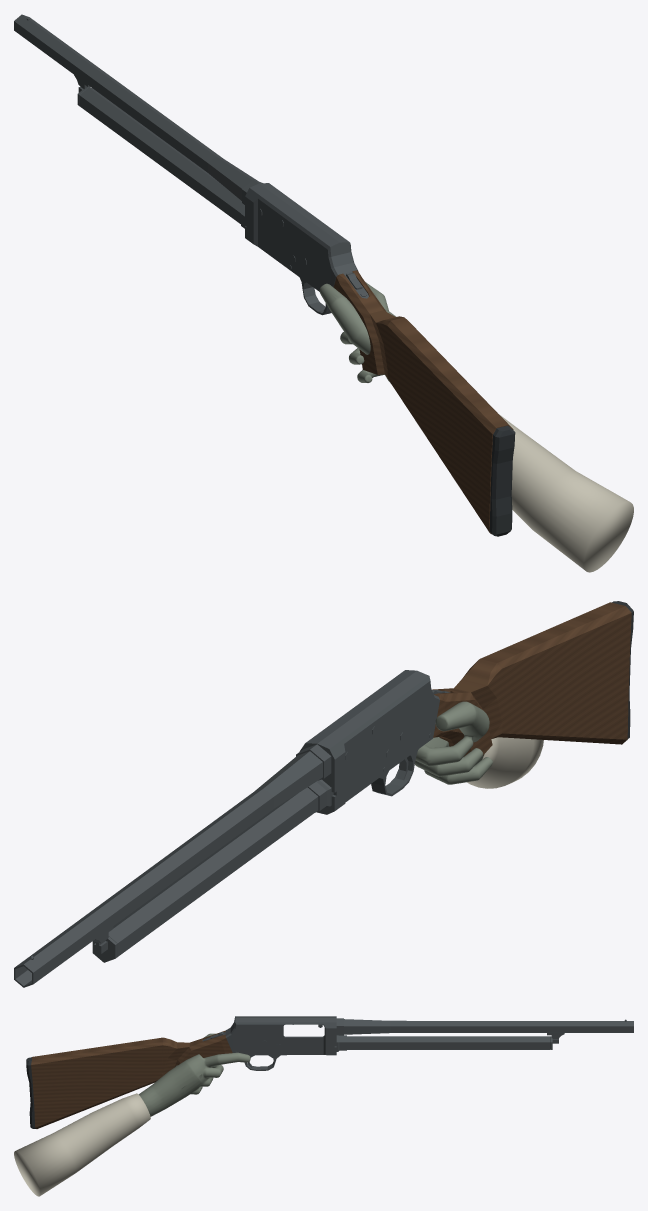
Rendered from shotgun_view_body.glb.
3 renders of one model, top to bottom at view 1: azimuth 30°, elevation 25°; view 2: azimuth 150°, elevation 25°; view 3: azimuth 270°, elevation 25°, orthographic. The views are drawn at different scales.
Visible parts, largest first — view 1: Supplied Stevens body, Right cuff and sleeve, Right continuous glove; view 2: Supplied Stevens body, Right continuous glove, Right cuff and sleeve; view 3: Supplied Stevens body, Right cuff and sleeve, Right continuous glove.
Boxes of the visible parts, left/top/right/bottom form: Supplied Stevens body: left=14, top=14, right=515, bottom=536; Right cuff and sleeve: left=499, top=414, right=633, bottom=572; Right continuous glove: left=319, top=282, right=396, bottom=383; Supplied Stevens body: left=14, top=601, right=633, bottom=987; Right continuous glove: left=415, top=701, right=492, bottom=784; Right cuff and sleeve: left=467, top=737, right=543, bottom=788; Supplied Stevens body: left=26, top=1016, right=633, bottom=1128; Right cuff and sleeve: left=14, top=1093, right=150, bottom=1196; Right continuous glove: left=139, top=1033, right=250, bottom=1116.
Bounding box in the file's own units: 0.198 × 0.2715 × 1.04.
Materials: 6 (1 with a texture image).
